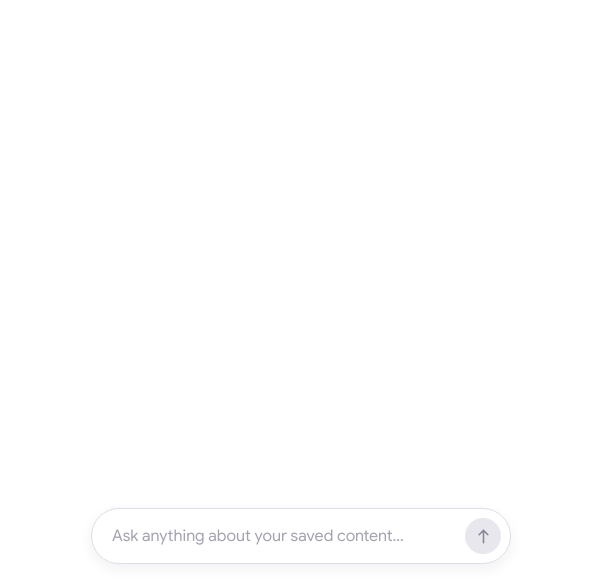
Test: questions and sources › reports query failure without losing the question
In the text box: (282, 536) x1=112 y1=516 x2=453 y2=556, type "When should I read?"
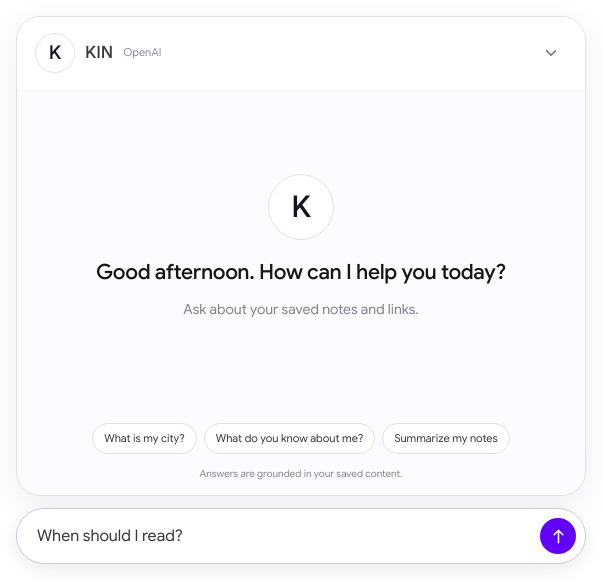
Click the button named "Send question": (558, 536) x1=540 y1=518 x2=576 y2=554
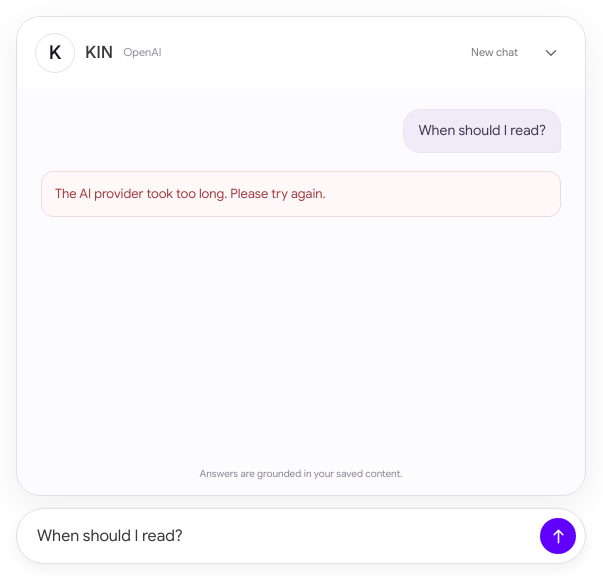
Check: the button named "Send question" is enabled, box x1=540 y1=518 x2=576 y2=554
Check: the message shows "took too long", box x1=55 y1=185 x2=326 y2=202
